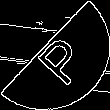P_NW: (23, 24, 87, 86)
